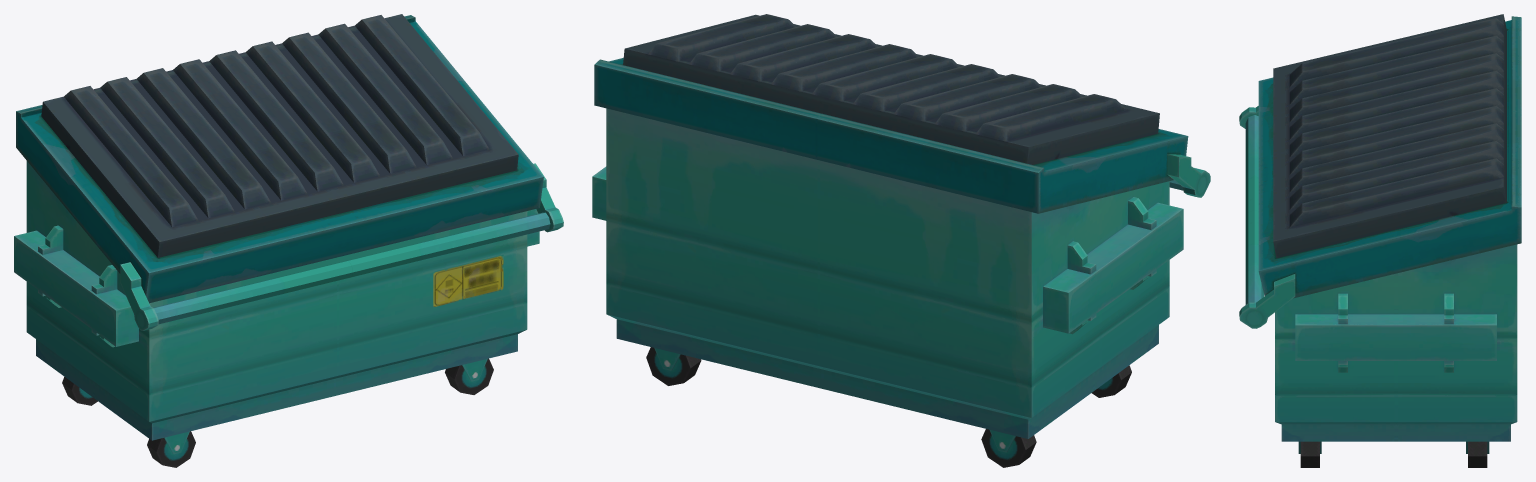
Rendered from P_Facility_00112.obj.
3 views of the same model, side by side, from view 1: azimuth 30°, elevation 25°; view 2: azimuth 150°, elevation 25°; view 3: azimuth 270°, elevation 25° (orthographic). The views are drawn at different scales.
Bounding box in the file's own units: 1.83 × 1.27 × 1.07.
Materials: 1 (1 with a texture image).
